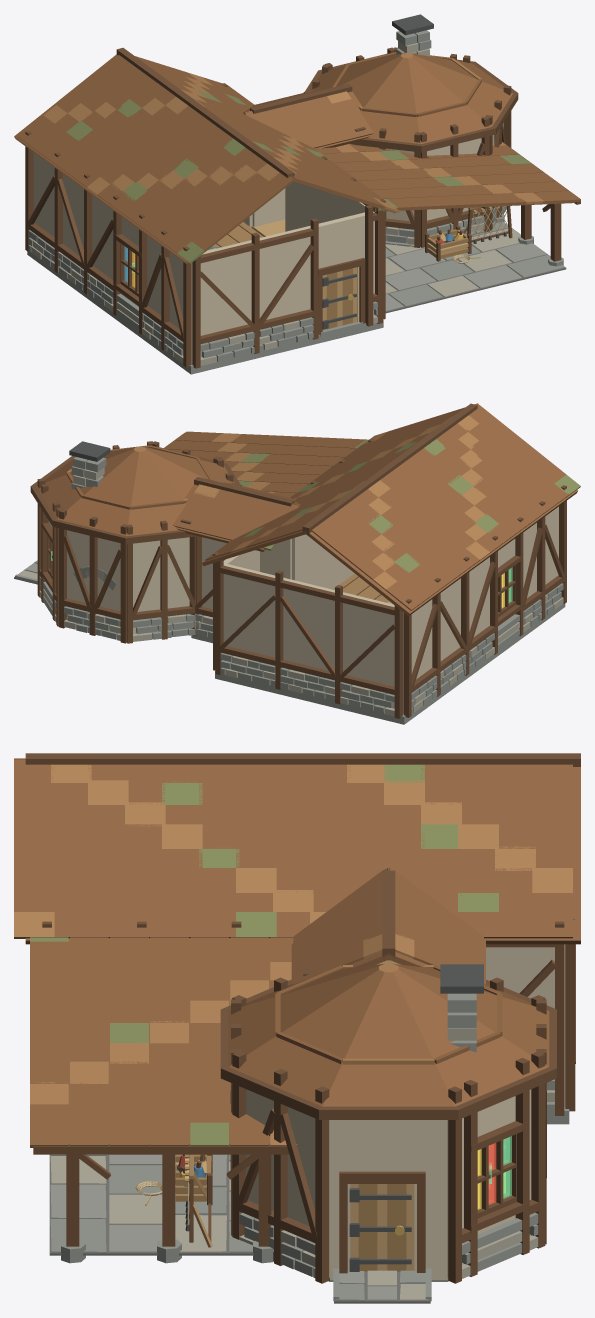
Rendered from holm_survival_workyard_v2.glb.
The picture shows the model from 3 angles, top to bottom: view 1: azimuth 30°, elevation 25°; view 2: azimuth 150°, elevation 25°; view 3: azimuth 270°, elevation 25°; orthographic projection. The views are drawn at different scales.
Visible parts, largest first — view 1: Roof_Workyard_Shingle_Umber, Static_Workyard_Oak_Dark, Static_Workyard_Warm_Limewash, Static_Workyard_Fieldstone, Roof_Workyard_Shingle_Sun, Roof_Workyard_Oak_Dark, Static_Workyard_Fieldstone_Light, Static_Workyard_Weathered_Cement, Roof_Workyard_Shingle_Moss, Static_Workyard_Cement_Joints, trail_door_Workyard_Oak_Worn, net_rack_Workyard_Oak_Dark (+7 smaller); view 2: Roof_Workyard_Shingle_Umber, Static_Workyard_Oak_Dark, Static_Workyard_Warm_Limewash, Static_Workyard_Fieldstone, Roof_Workyard_Shingle_Sun, Roof_Workyard_Oak_Dark, Static_Workyard_Fieldstone_Light, Roof_Workyard_Shingle_Moss, Roof_Workyard_Fieldstone, Static_Workyard_Oak_Worn, Roof_Workyard_Forged_Iron; view 3: Roof_Workyard_Shingle_Umber, Static_Workyard_Oak_Dark, Roof_Workyard_Shingle_Sun, Static_Workyard_Warm_Limewash, Roof_Workyard_Oak_Dark, Static_Workyard_Fieldstone, Roof_Workyard_Shingle_Moss, Static_Workyard_Fieldstone_Light, Static_Workyard_Weathered_Cement, pond_door_Workyard_Oak_Worn, Static_Workyard_Cement_Joints, pond_door_Workyard_Fresh_Cut (+5 smaller).
Boxes of the visible parts, bbox=[...] form: Roof_Workyard_Shingle_Umber: bbox=[14, 52, 580, 264]; Static_Workyard_Oak_Dark: bbox=[25, 47, 561, 368]; Static_Workyard_Warm_Limewash: bbox=[33, 123, 503, 362]; Static_Workyard_Fieldstone: bbox=[27, 206, 564, 374]; Roof_Workyard_Shingle_Sun: bbox=[43, 58, 543, 212]; Roof_Workyard_Oak_Dark: bbox=[116, 47, 580, 216]; Static_Workyard_Fieldstone_Light: bbox=[31, 221, 520, 365]; Static_Workyard_Weathered_Cement: bbox=[385, 243, 547, 311]; Roof_Workyard_Shingle_Moss: bbox=[66, 90, 531, 263]; Static_Workyard_Cement_Joints: bbox=[385, 224, 566, 313]; trail_door_Workyard_Oak_Worn: bbox=[326, 268, 353, 329]; net_rack_Workyard_Oak_Dark: bbox=[425, 206, 512, 261]; Roof_Workyard_Shingle_Umber: bbox=[36, 403, 577, 616]; Static_Workyard_Oak_Dark: bbox=[37, 438, 566, 718]; Static_Workyard_Warm_Limewash: bbox=[48, 506, 558, 713]; Static_Workyard_Fieldstone: bbox=[15, 560, 565, 724]; Roof_Workyard_Shingle_Sun: bbox=[66, 415, 490, 590]; Roof_Workyard_Oak_Dark: bbox=[30, 403, 477, 544]; Static_Workyard_Fieldstone_Light: bbox=[18, 570, 563, 716]; Roof_Workyard_Shingle_Moss: bbox=[238, 439, 580, 572]; Roof_Workyard_Fieldstone: bbox=[71, 457, 106, 489]; Static_Workyard_Oak_Worn: bbox=[333, 573, 389, 602]; Roof_Workyard_Forged_Iron: bbox=[69, 441, 110, 461]; Roof_Workyard_Shingle_Umber: bbox=[14, 758, 580, 1148]; Static_Workyard_Oak_Dark: bbox=[42, 919, 575, 1283]; Roof_Workyard_Shingle_Sun: bbox=[14, 764, 572, 1147]; Static_Workyard_Warm_Limewash: bbox=[246, 944, 565, 1279]; Roof_Workyard_Oak_Dark: bbox=[25, 753, 580, 1154]; Static_Workyard_Fieldstone: bbox=[50, 1079, 569, 1301]; Roof_Workyard_Shingle_Moss: bbox=[30, 764, 498, 1145]; Static_Workyard_Fieldstone_Light: bbox=[50, 1090, 554, 1300]; Static_Workyard_Weathered_Cement: bbox=[50, 1154, 396, 1300]; pond_door_Workyard_Oak_Worn: bbox=[358, 1184, 406, 1271]; Static_Workyard_Cement_Joints: bbox=[49, 1154, 430, 1303]; pond_door_Workyard_Fresh_Cut: bbox=[350, 1184, 414, 1270].
Bounding box in the file's own units: 19.7 × 7.54 × 13.28.
